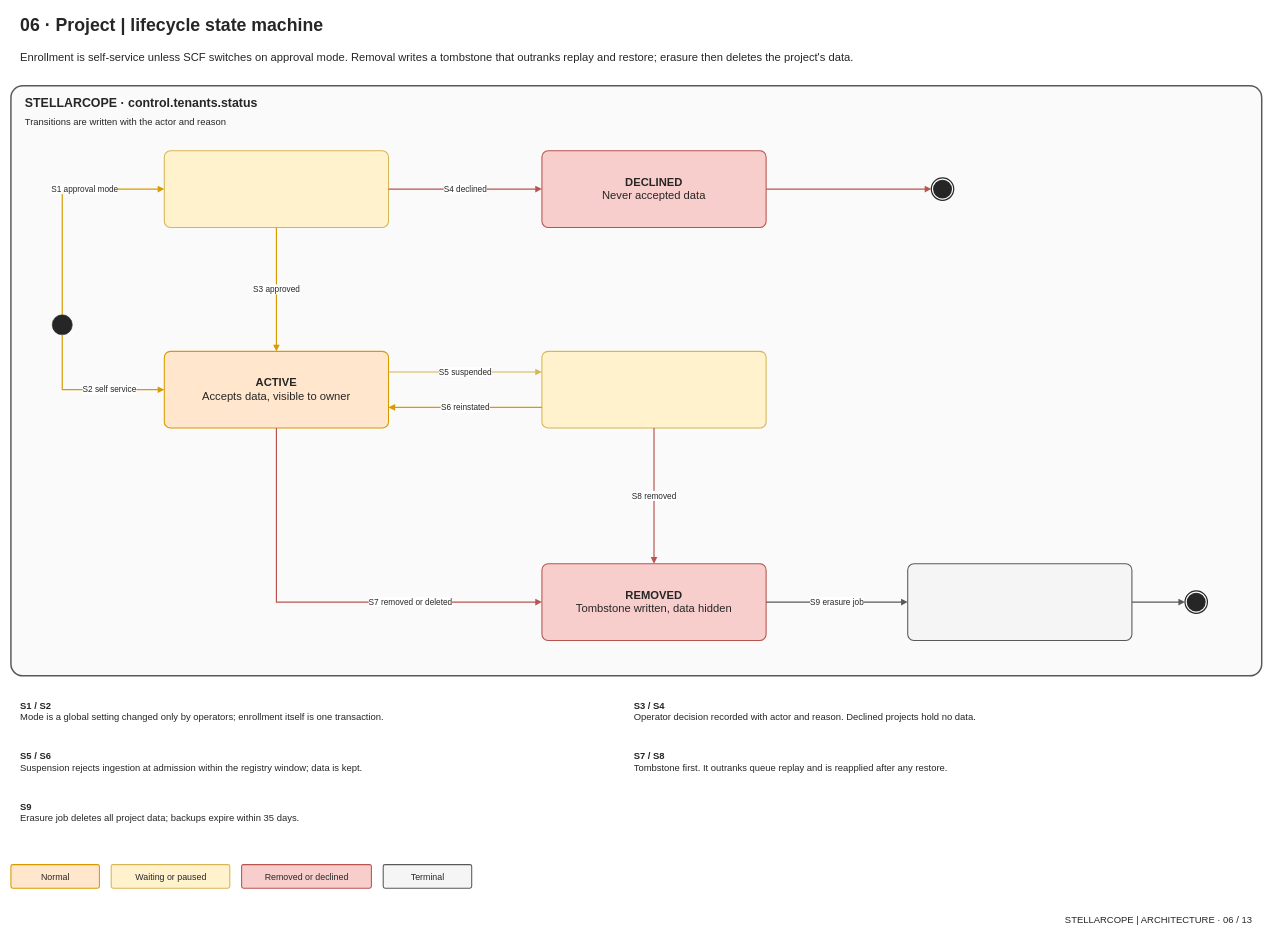
The diagram is 1273 pixels wide and 939 high, and some of its shapes have lost their labels. The centre of each missing label's shape, as x and y in pixels:
"ERASED Data deleted, ID never reused" goes at point (1019, 602).
"PENDING_APPROVAL Approval mode only" goes at point (276, 189).
"SUSPENDED Ingestion rejected, data kept" goes at point (653, 389).
